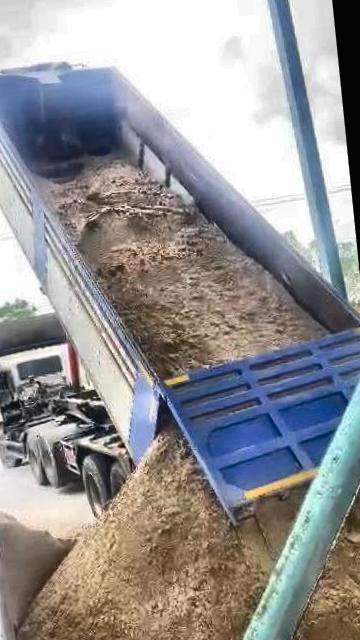sand: (41, 156, 326, 377), (20, 435, 300, 640), (265, 460, 360, 640), (0, 511, 86, 624)
